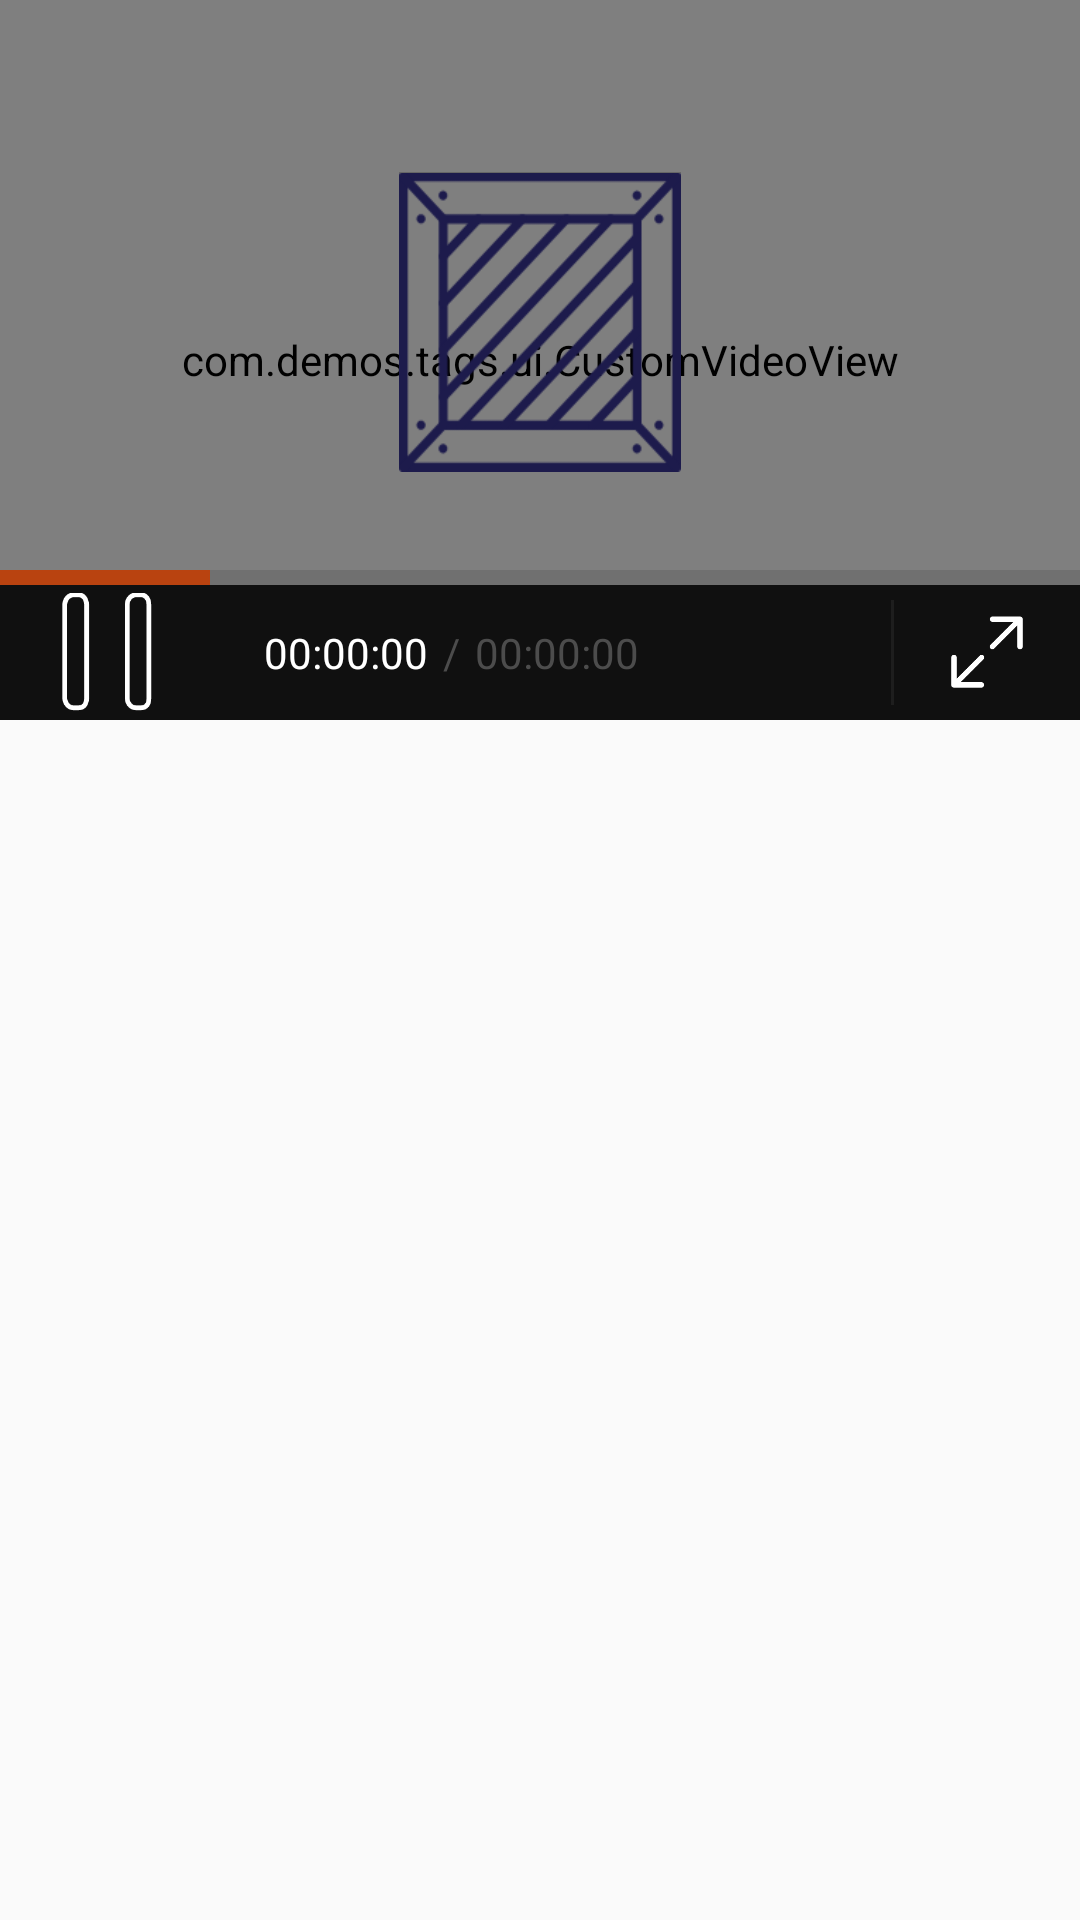

Screen size 1080px x 1920px. Icon name, then its center in pixels as [x,y]:
pause style: [107,652]
srceen: [987,652]
